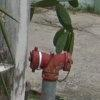a fire hydrant: (27, 47, 73, 100)
